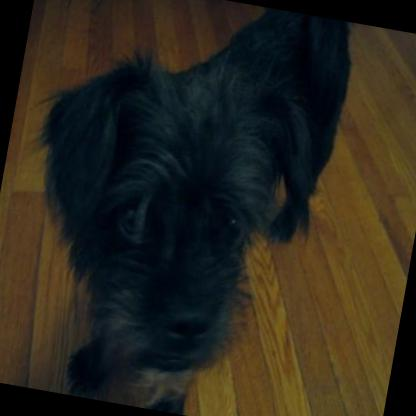affenpinscher: (0, 0, 367, 416)
